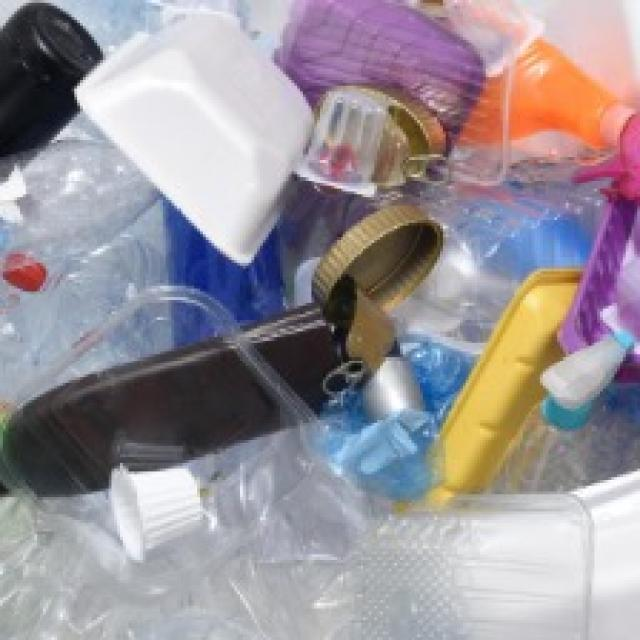heap: (8, 70, 606, 640)
plastic: (80, 3, 316, 270), (419, 235, 572, 498), (316, 178, 456, 327)
